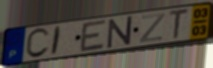C: (24, 27, 51, 60)
E: (79, 18, 108, 54)
I: (49, 25, 63, 57)
N: (107, 15, 134, 50)
T: (168, 7, 190, 41)
Z: (138, 12, 167, 45)
